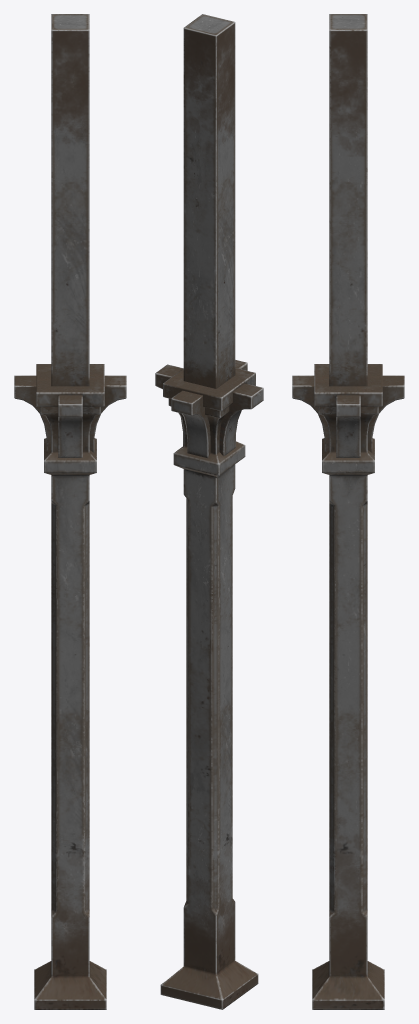
File: SM_Beam01_1_LOD0.glb
3 views of the same model, side by side, from view 1: azimuth 90°, elevation 25°; view 2: azimuth 150°, elevation 25°; view 3: azimuth 270°, elevation 25° (orthographic).
Parts seen in each view (by area): view 1: SM_Beam01_1_LOD0; view 2: SM_Beam01_1_LOD0; view 3: SM_Beam01_1_LOD0.
Boxes of the visible parts, <box> form: SM_Beam01_1_LOD0: <box>14,14,126,1009</box>; SM_Beam01_1_LOD0: <box>155,14,263,1009</box>; SM_Beam01_1_LOD0: <box>292,14,404,1009</box>.
Size of the model in its own units: 0.414 by 3.96 by 0.414.
1 material, 1 textured.
